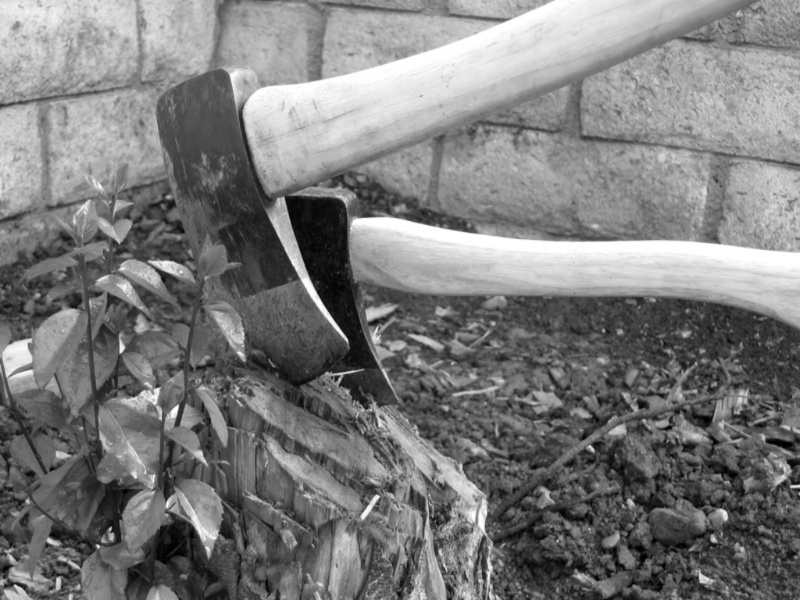axe: (150, 64, 356, 388), (269, 166, 447, 418)
